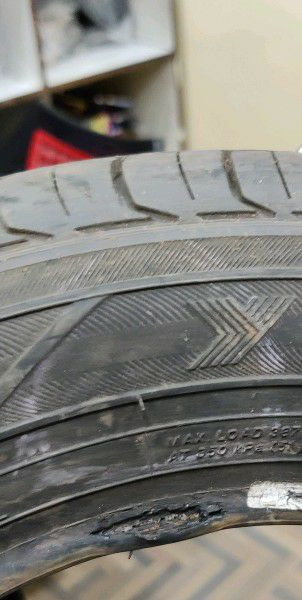bead_damage: (86, 488, 249, 561)
